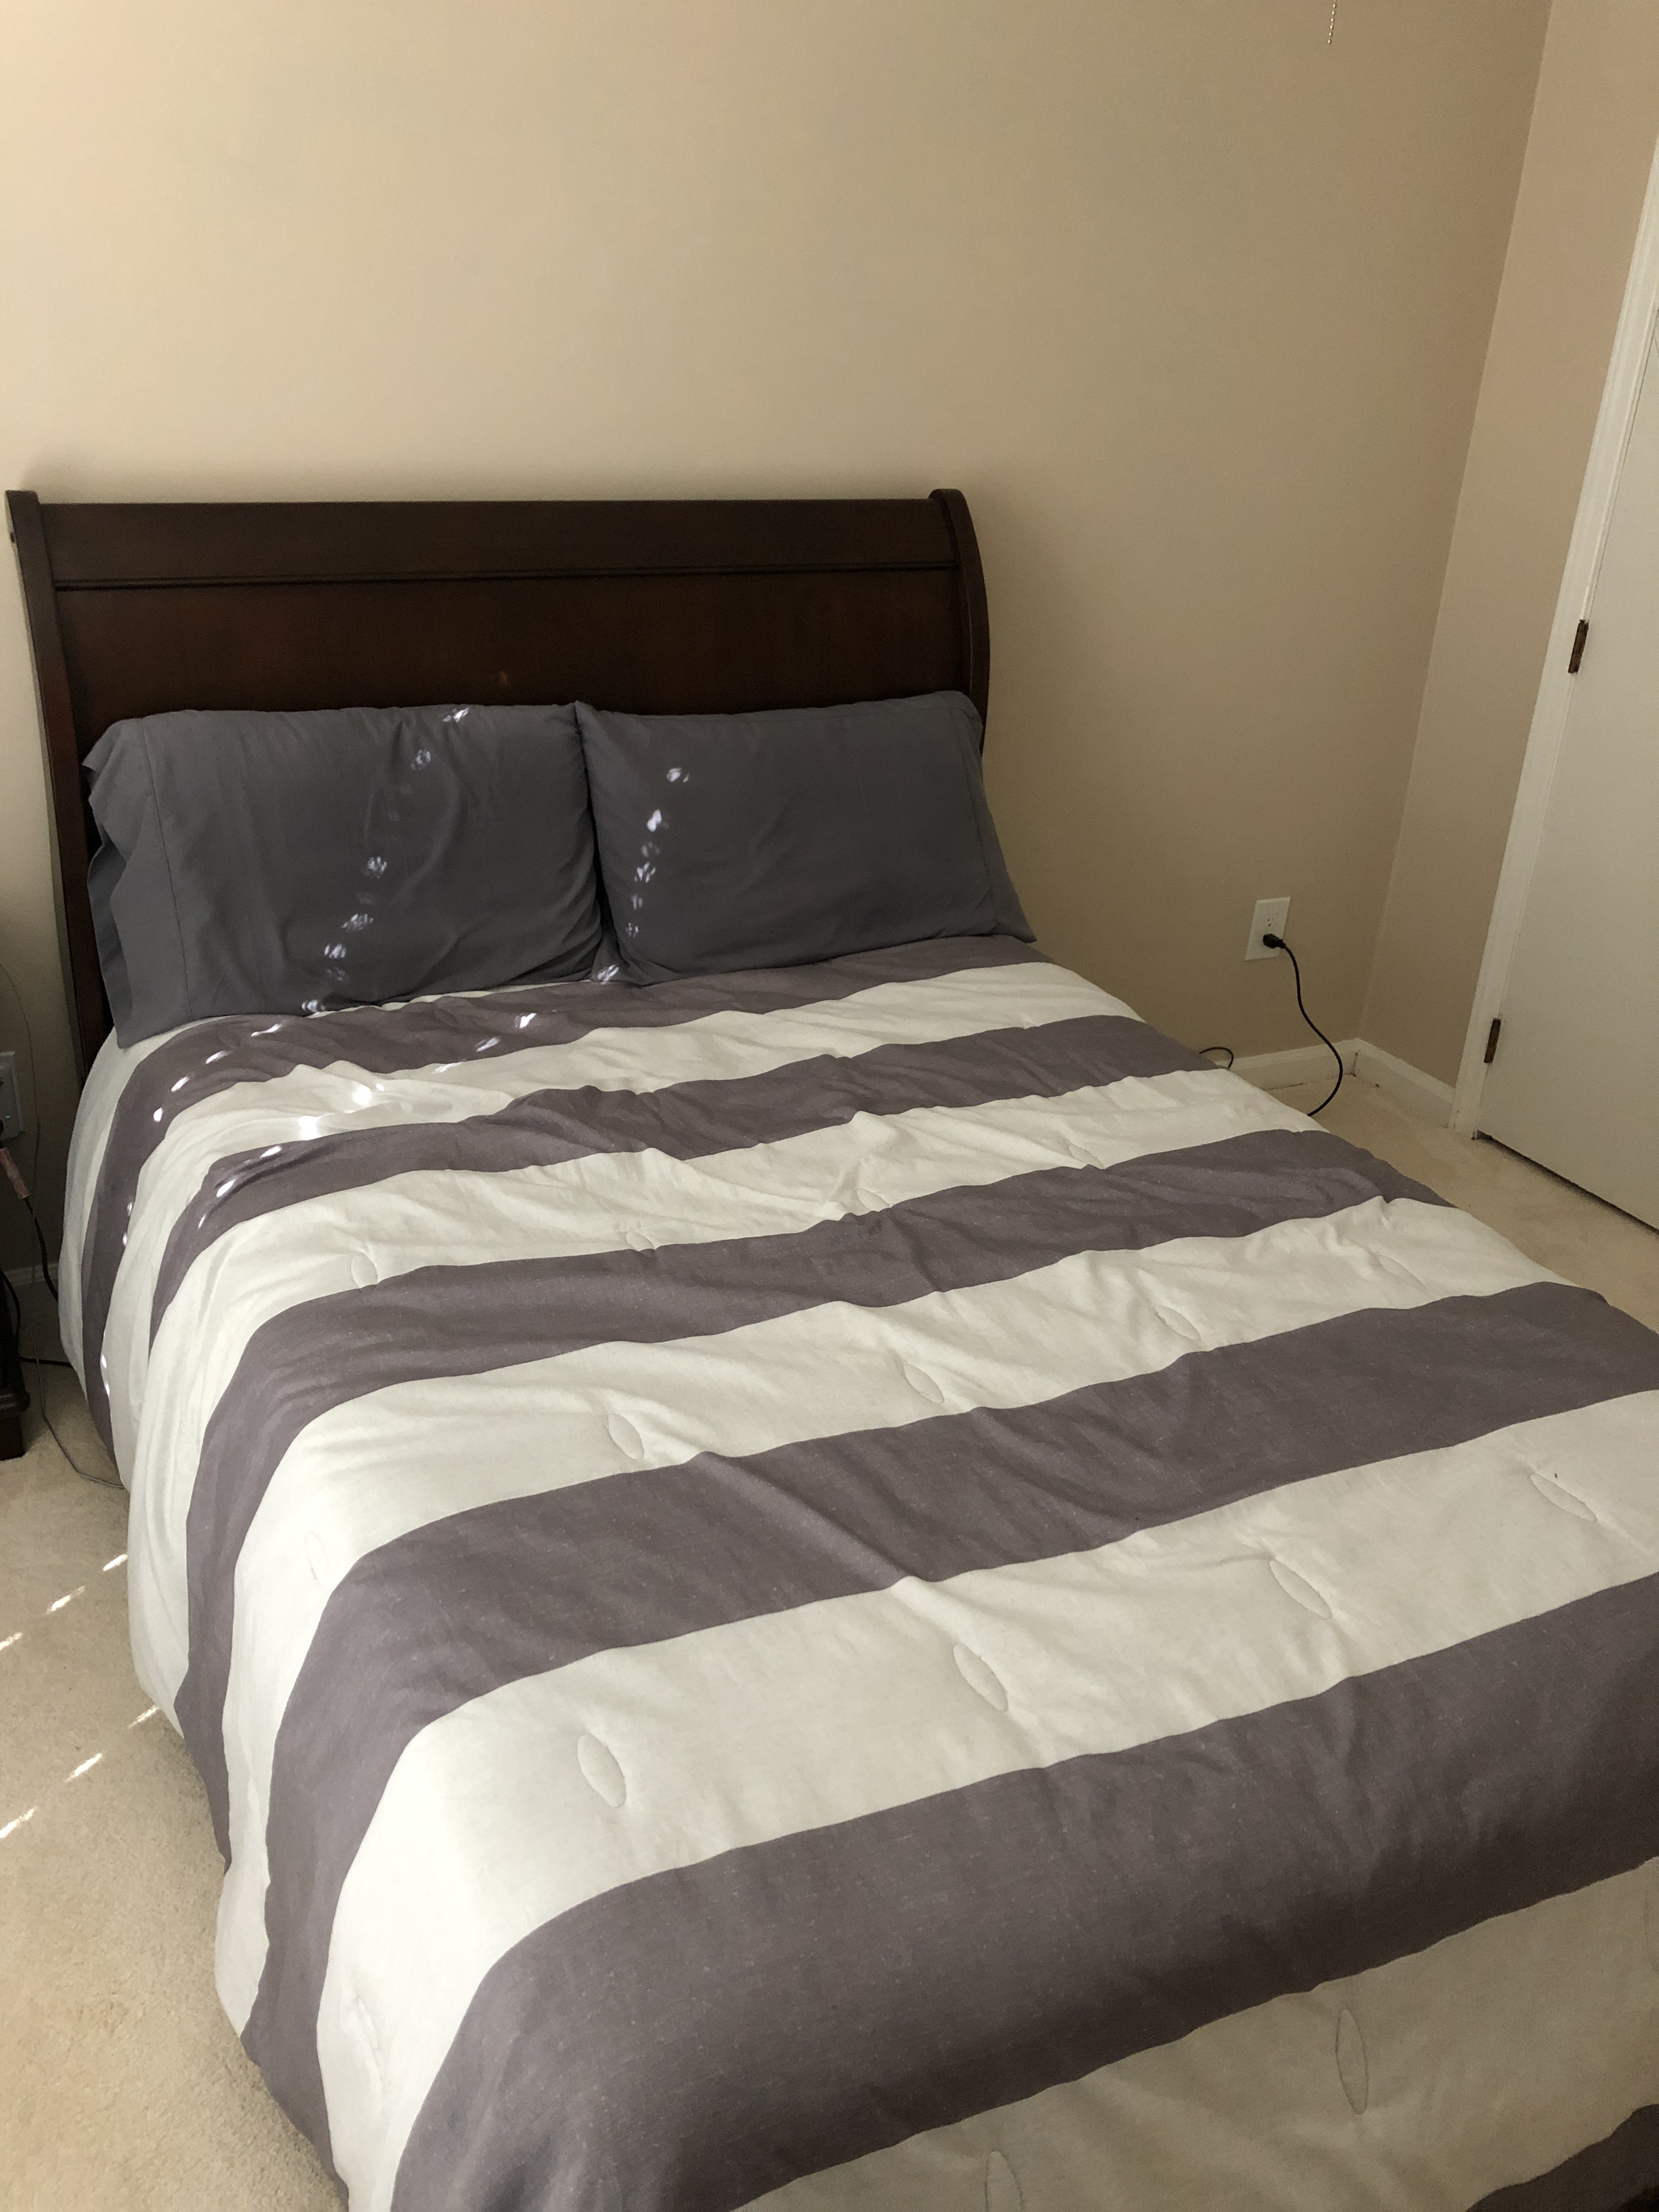bed: (7, 488, 1659, 2212)
